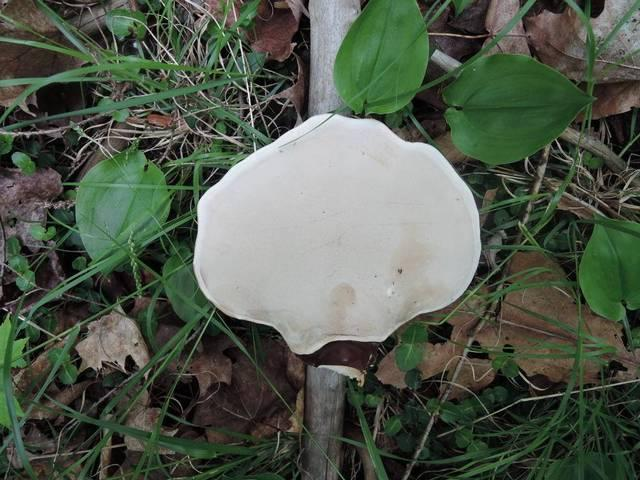Non-edible Mushroom: (191, 111, 482, 478)
